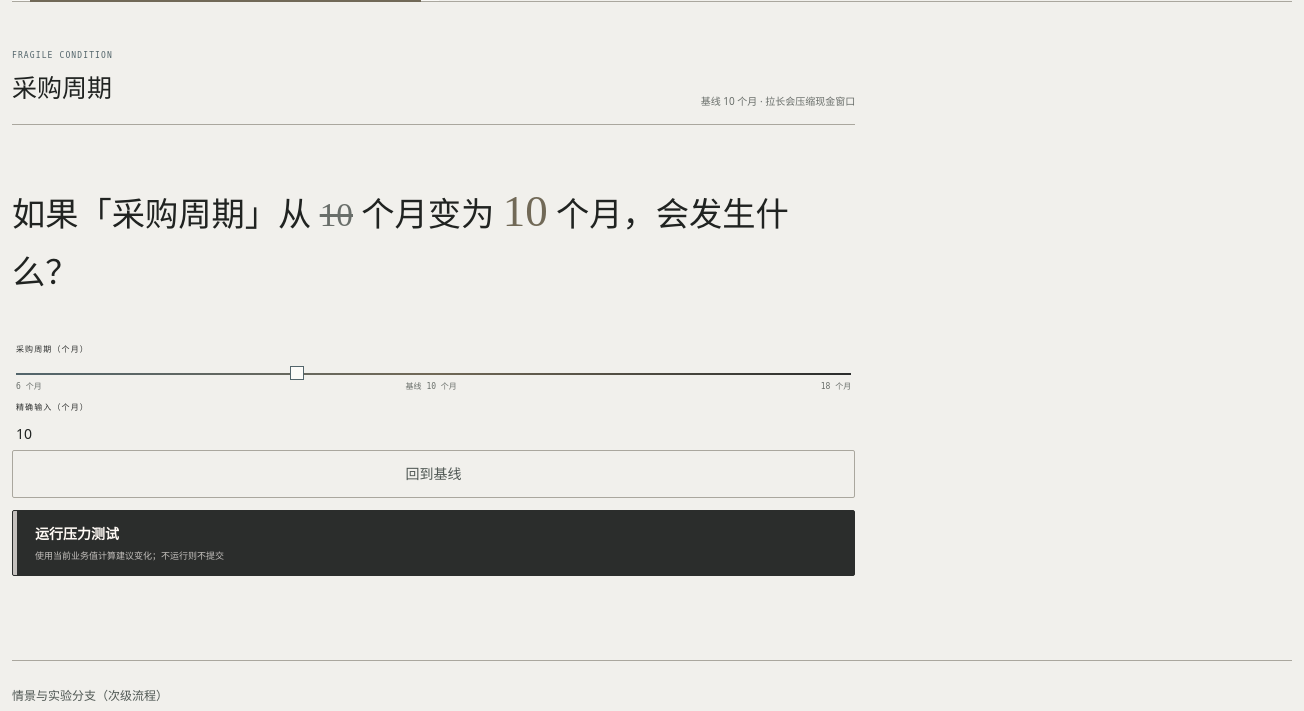
Test: QA-A1 idempotency: repeated network failures never mint a fresh key › IDEMPOTENCY_CONFLICT clears the pending key: the next explicit run uses a different key
(page scrolled)
Click the button "运行压力测试 使用当前业务值计算建议变化；不运行则不提交" at (77,534), box [12,510,855,576]
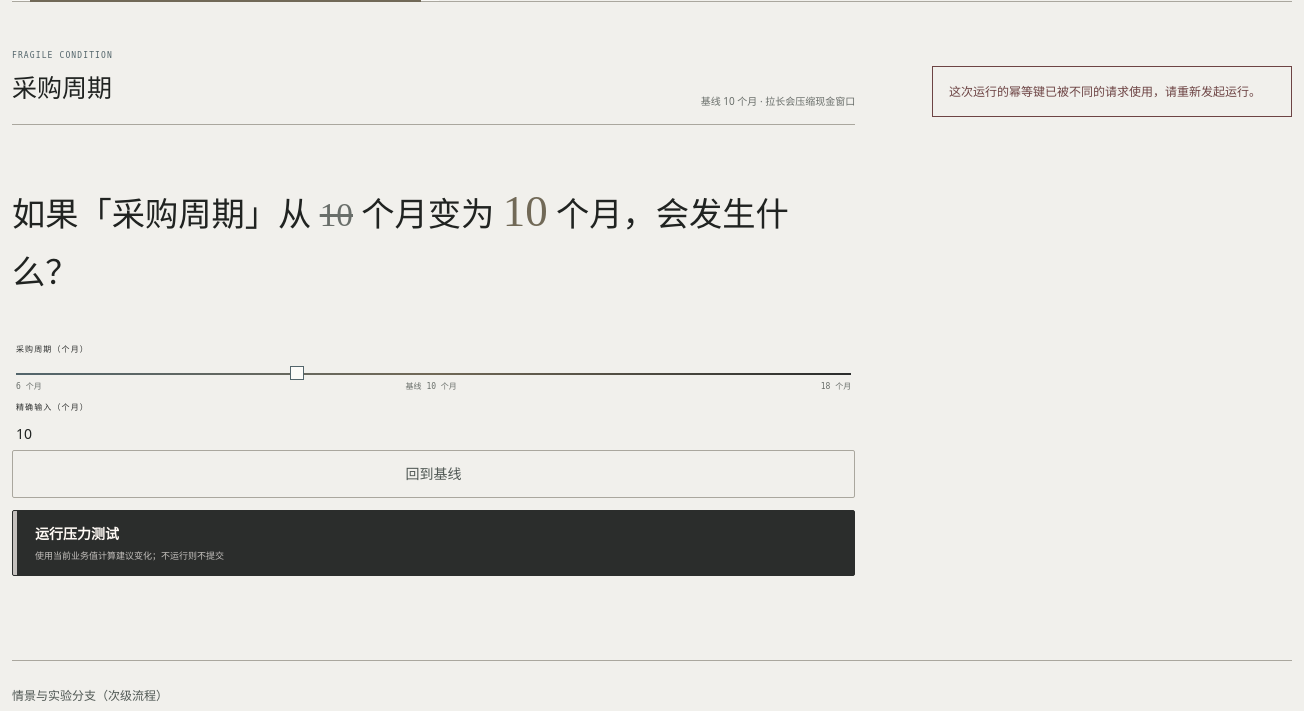
Expected: the message shows "幂等键已被不同的请求使用", [949,83,1261,100]
Click the button "运行压力测试 使用当前业务值计算建议变化；不运行则不提交" at (77,534), box [12,510,855,576]
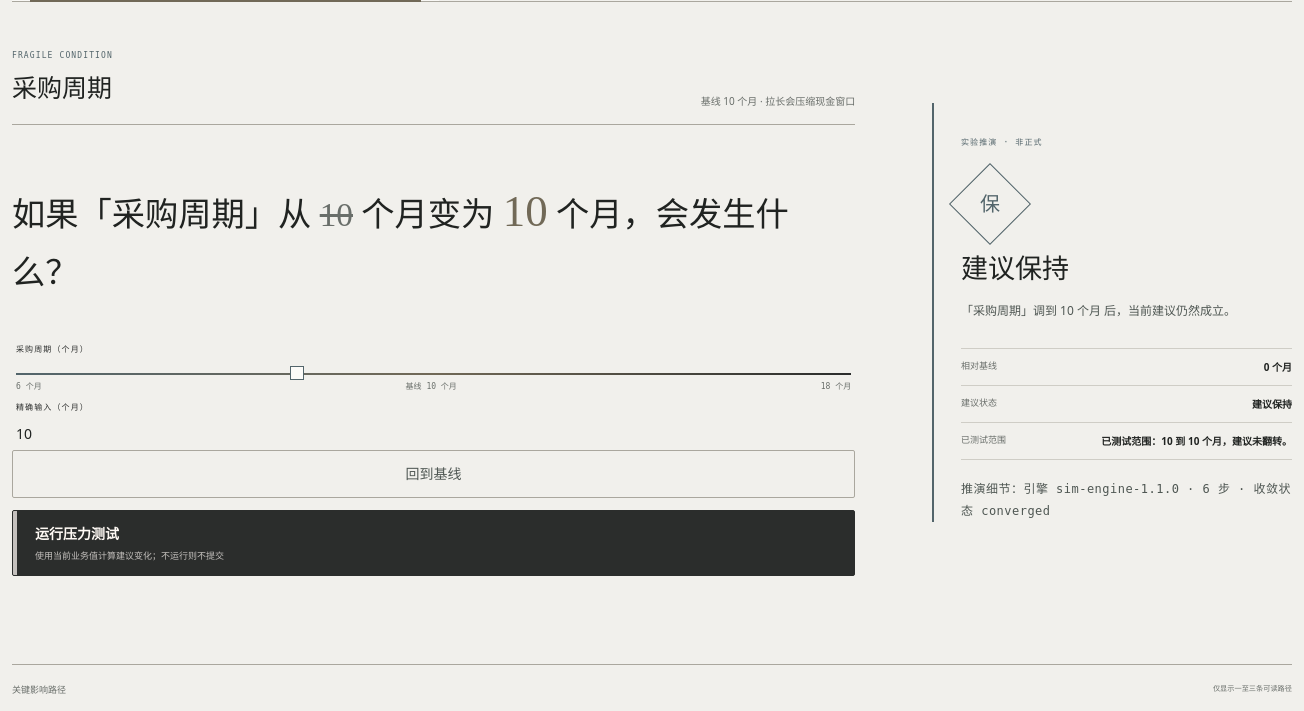
Expected: the heading "建议保持" is shown, [961,254,1069,284]
